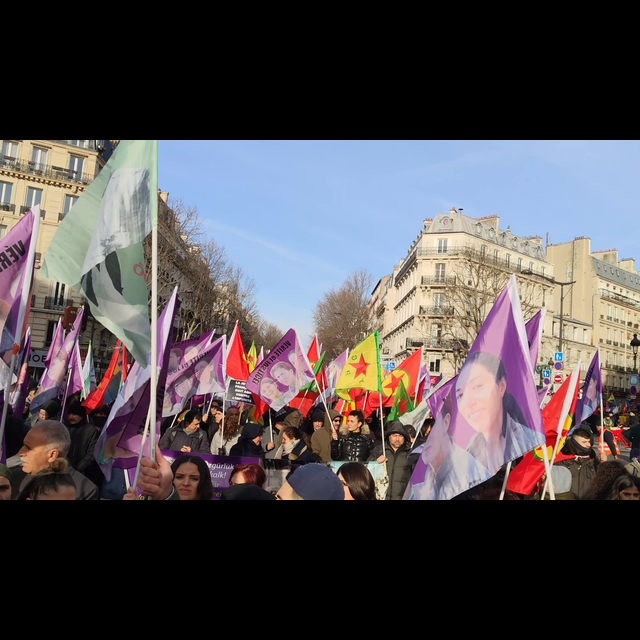YPG: (346, 349, 376, 385)
